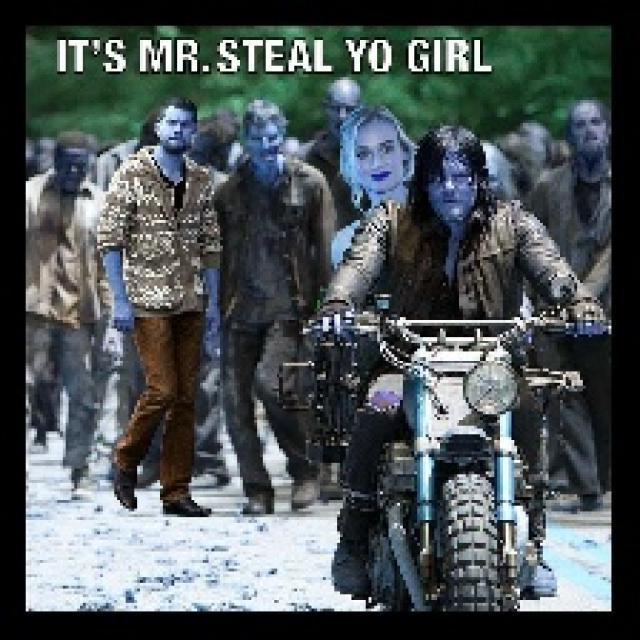motorcycle: (348, 314, 558, 626)
